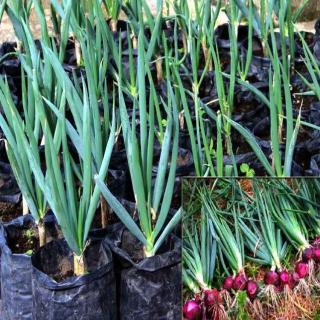Bawang Merah: (182, 176, 320, 320)
